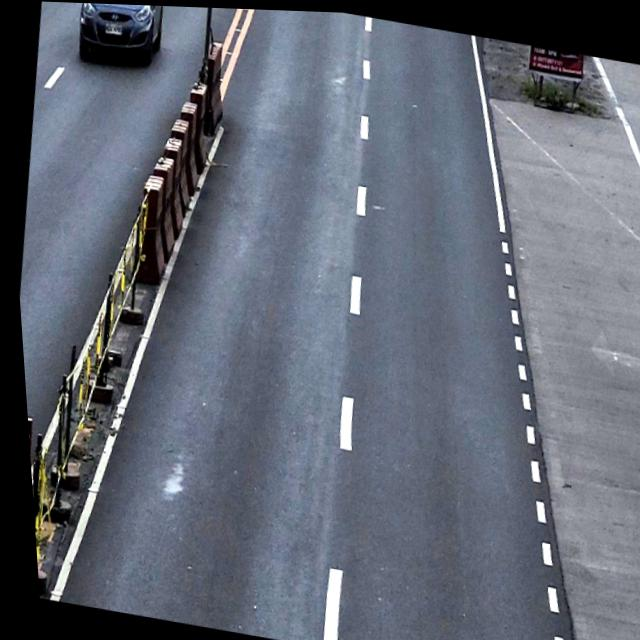Car: (70, 2, 170, 70)
License-Plate: (102, 18, 123, 37)
